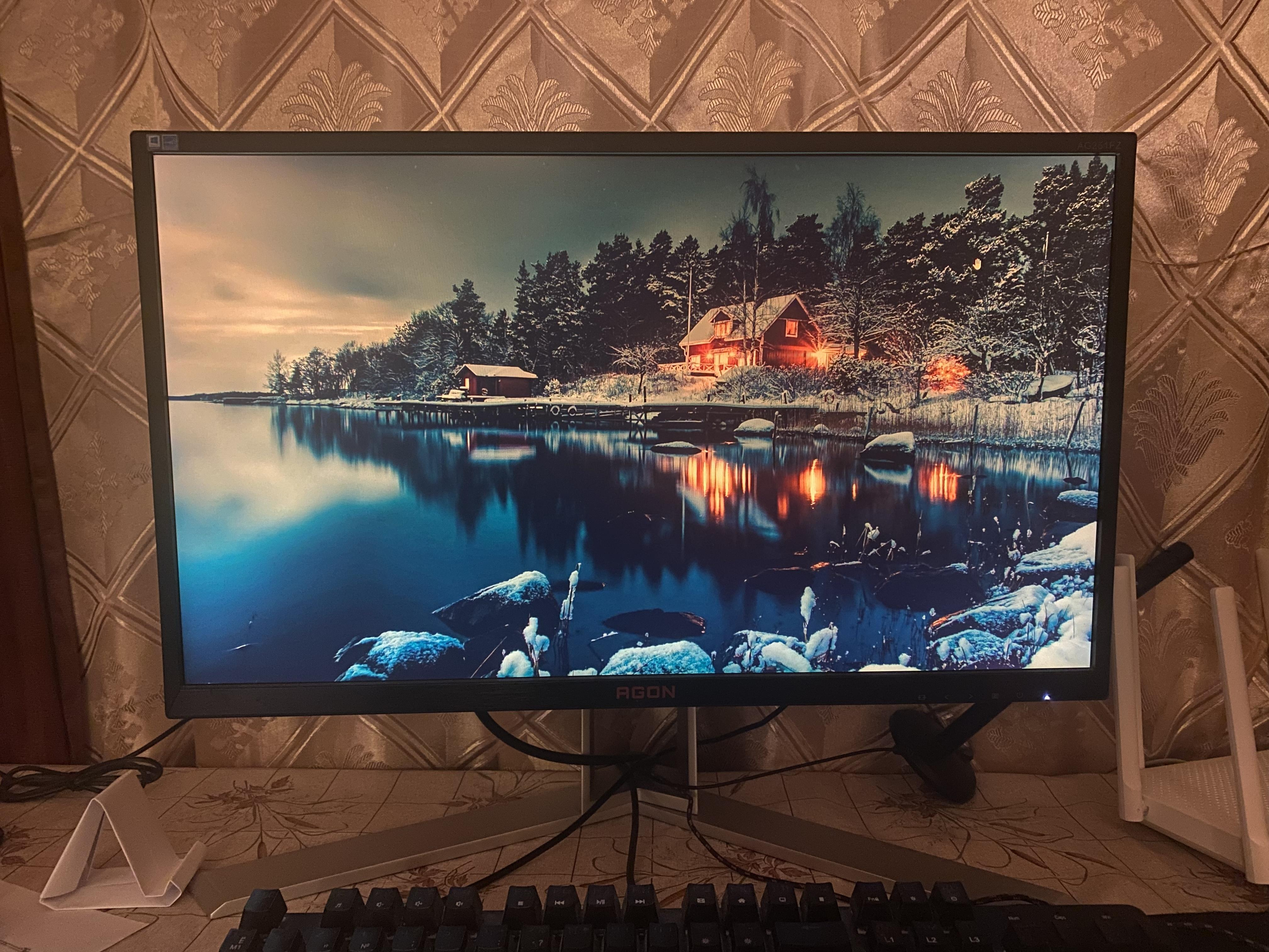monitor: (118, 124, 1139, 713)
